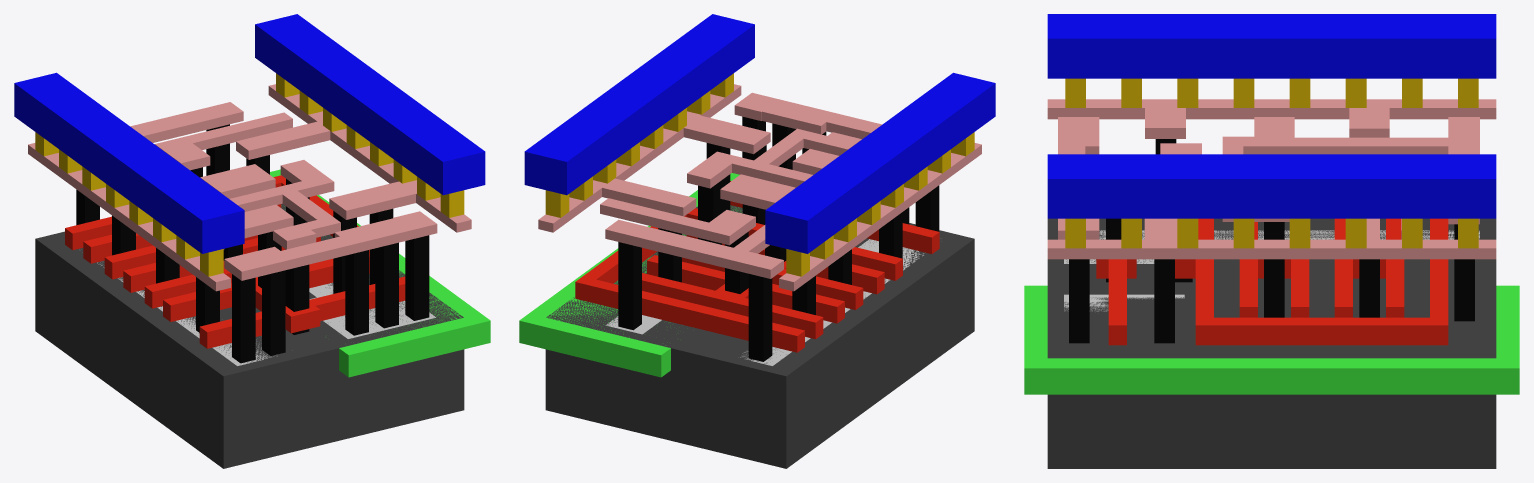
Rendered from sky130_fd_sc_hd__maj3_1.obj.
3 views of the same model, side by side, from view 1: azimuth 30°, elevation 25°; view 2: azimuth 150°, elevation 25°; view 3: azimuth 270°, elevation 25° (orthographic). The views are drawn at different scales.
Visible parts, largest first — view 1: subs, metal1, li, licon, poly, nwell, mcon, tap, diff; view 2: subs, metal1, li, poly, licon, nwell, mcon, diff; view 3: metal1, subs, li, nwell, poly, mcon, licon, diff, tap.
Part boxes in pixels (bbox=[...]): subs: bbox=[35, 203, 464, 468]; metal1: bbox=[14, 14, 485, 253]; li: bbox=[28, 84, 471, 291]; licon: bbox=[76, 124, 429, 363]; poly: bbox=[65, 175, 405, 348]; nwell: bbox=[270, 169, 490, 377]; mcon: bbox=[35, 73, 464, 276]; tap: bbox=[309, 282, 435, 338]; diff: bbox=[97, 262, 277, 365]; subs: bbox=[545, 205, 974, 468]; metal1: bbox=[524, 14, 995, 253]; li: bbox=[538, 84, 981, 291]; poly: bbox=[575, 181, 939, 352]; licon: bbox=[618, 116, 939, 361]; nwell: bbox=[519, 173, 742, 377]; mcon: bbox=[545, 73, 974, 276]; diff: bbox=[740, 239, 924, 365]; metal1: bbox=[1047, 14, 1496, 218]; subs: bbox=[1047, 218, 1496, 468]; li: bbox=[1047, 99, 1496, 259]; nwell: bbox=[1024, 285, 1519, 394]; poly: bbox=[1096, 218, 1448, 345]; mcon: bbox=[1065, 78, 1478, 248]; licon: bbox=[1069, 139, 1474, 343]; diff: bbox=[1064, 230, 1479, 263]; tap: bbox=[1064, 294, 1184, 311].
Bounding box in the file's own units: 3.2 × 2.74 × 4.06.
